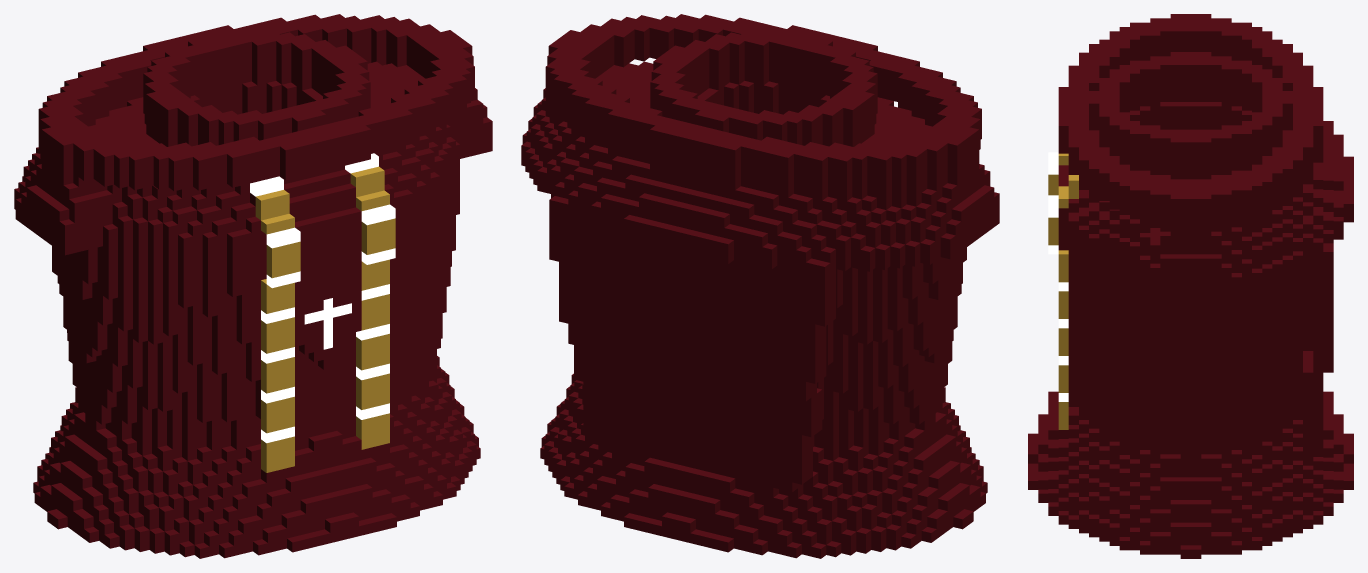
File: starsilk_vestment.glb
3 renders of one model, left to right at view 1: azimuth 30°, elevation 25°; view 2: azimuth 150°, elevation 25°; view 3: azimuth 270°, elevation 25°, orthographic. The views are drawn at different scales.
Parts seen in each view (by area): view 1: starsilk_vestment; view 2: starsilk_vestment; view 3: starsilk_vestment.
Part boxes in pixels (x1,y1,x2,y2): starsilk_vestment: [14, 14, 492, 558]; starsilk_vestment: [521, 14, 999, 558]; starsilk_vestment: [1028, 14, 1353, 558].
Size of the model in its own units: 0.54 by 0.48 by 0.384.
